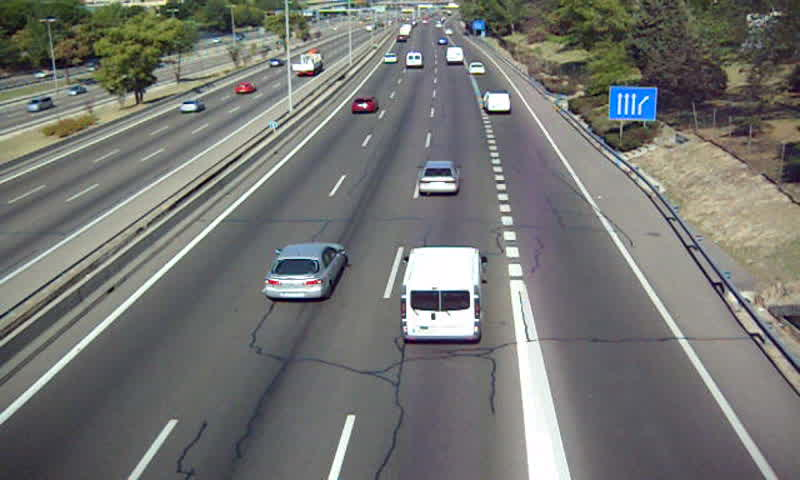car: (263, 242, 345, 301), (417, 161, 461, 196), (351, 96, 379, 113), (468, 61, 487, 76)
van: (400, 247, 482, 341), (485, 90, 511, 114), (404, 51, 423, 68), (445, 47, 464, 64)
